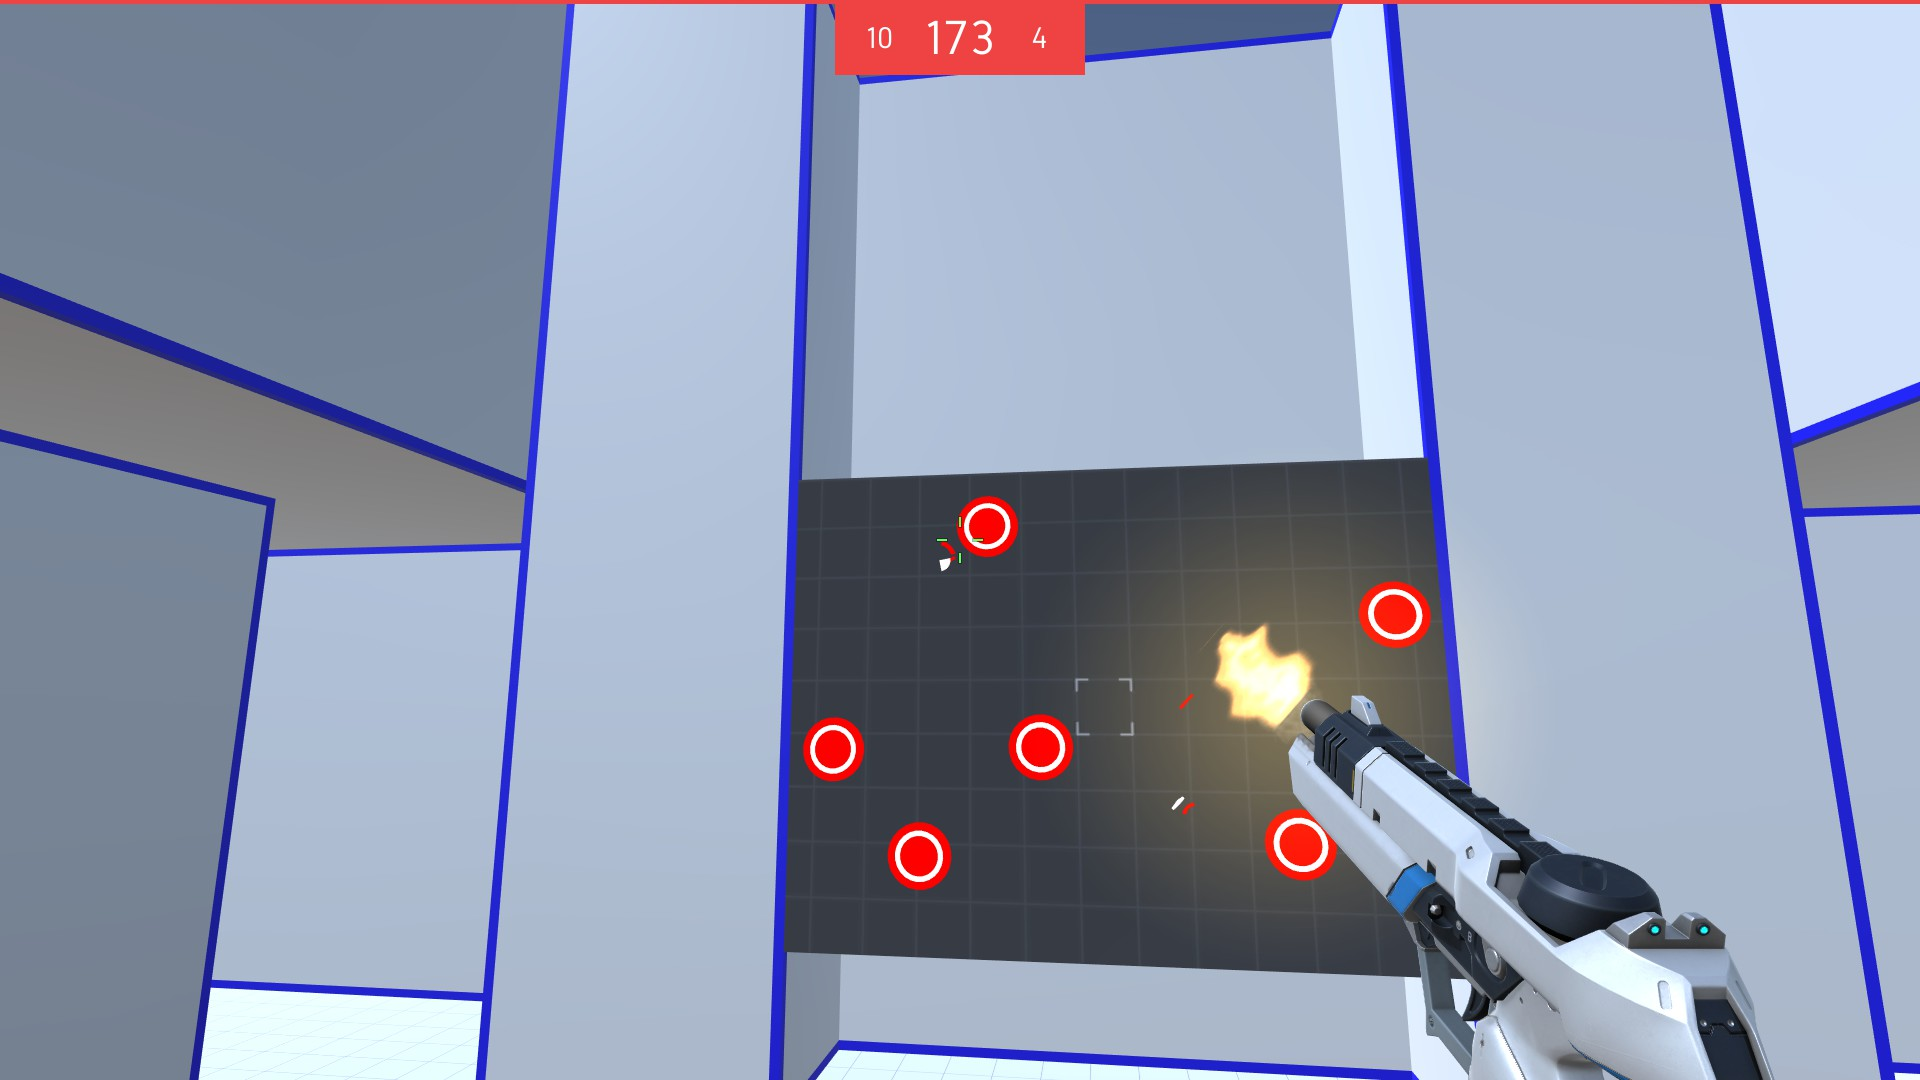target: (1257, 804, 1346, 881), (1354, 575, 1433, 650), (1004, 709, 1080, 785), (882, 820, 957, 894), (799, 713, 869, 785), (952, 491, 1021, 558)
